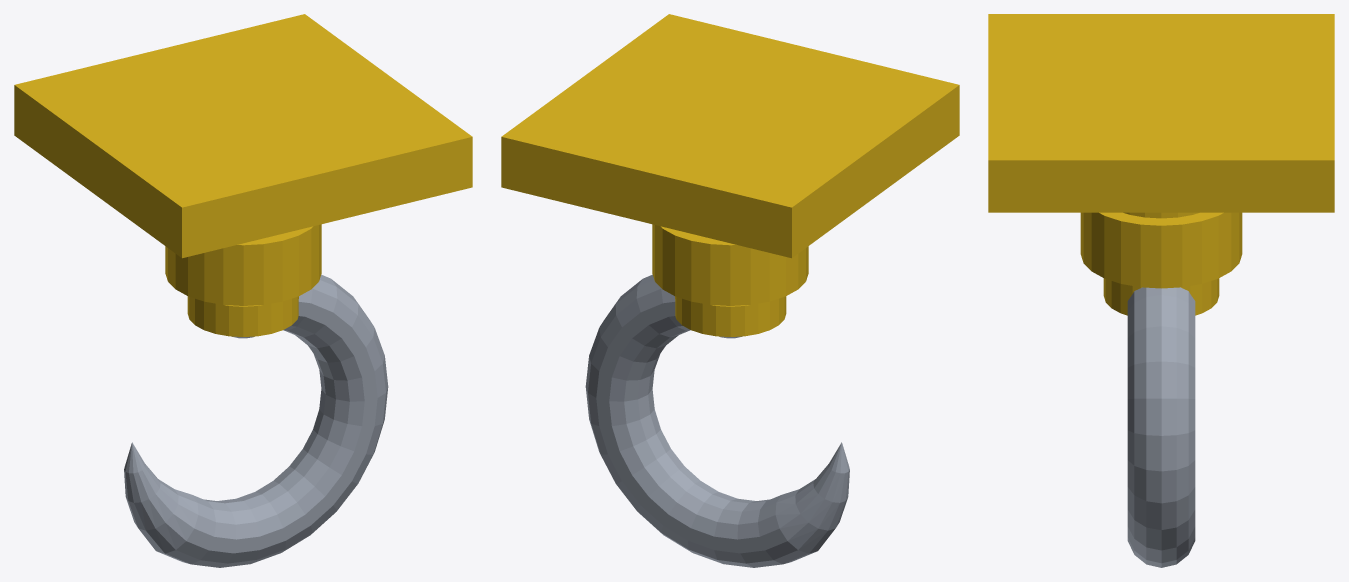
Rendered from hook.dae.
3 renders of one model, left to right at view 1: azimuth 30°, elevation 25°; view 2: azimuth 150°, elevation 25°; view 3: azimuth 270°, elevation 25°, orthographic. The views are drawn at different scales.
Visible parts, largest first — view 1: hook; view 2: hook; view 3: hook.
Part boxes in pixels (x1,y1,x2,y2): hook: (14, 14, 472, 567); hook: (501, 14, 959, 567); hook: (988, 14, 1334, 567).
Bounding box in the file's own units: 0.3 × 0.3 × 0.445.
